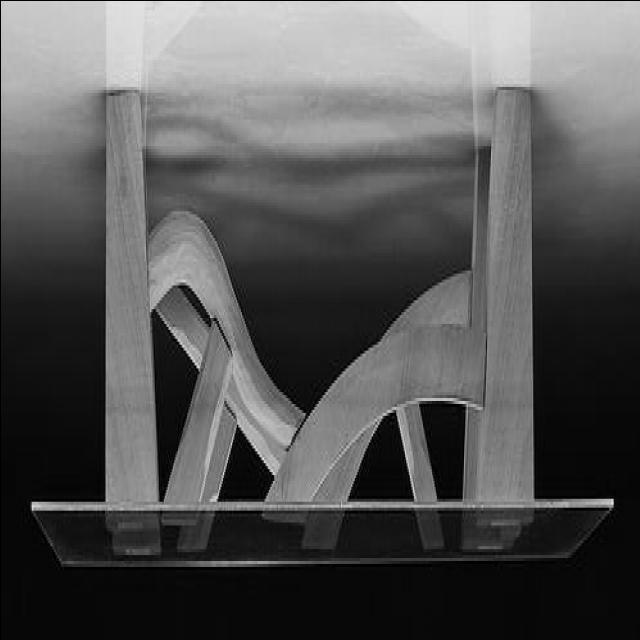table: (31, 83, 614, 571)
